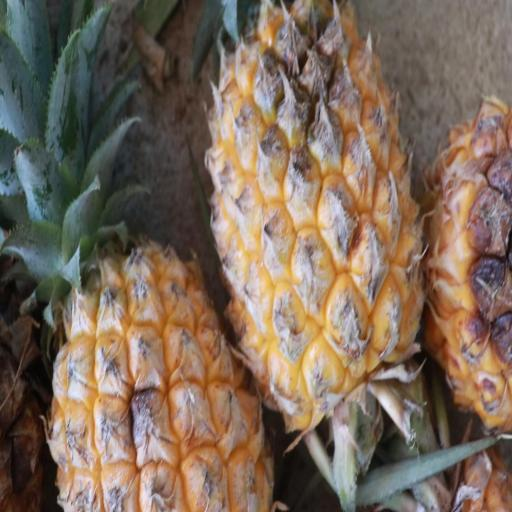Pineapple - v8 v1: (40, 100, 275, 512), (209, 1, 427, 429)
